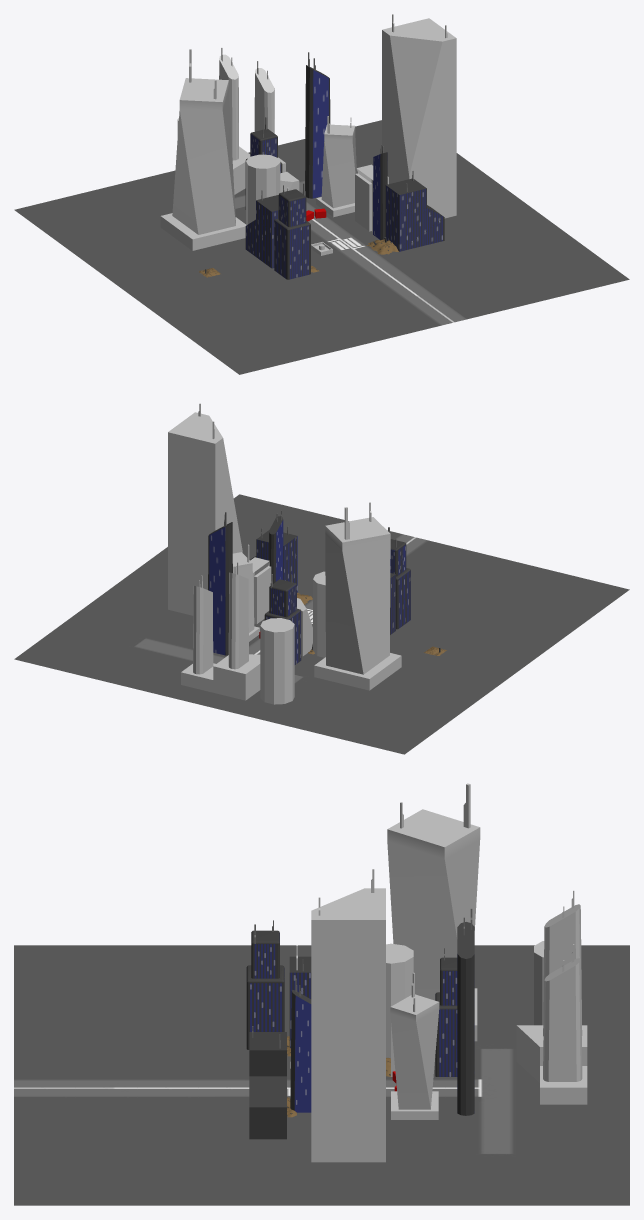
The model's file is sci fi city .fbx.
The picture shows the model from 3 angles, top to bottom: view 1: azimuth 30°, elevation 25°; view 2: azimuth 150°, elevation 25°; view 3: azimuth 270°, elevation 25°; orthographic projection. The views are drawn at different scales.
Parts seen in each view (by area): view 1: pPlane6, pCube35, pCube32, pCube46, pCube29, pCube16, pCube47, pCube31, pCylinder1, pCube24, pCube37, pCube2 (+3 smaller); view 2: pPlane6, pCube32, pCube35, pCylinder6, pCube47, pCube38, pCube36, pCube37, pCube45, pCube16, pCube46, pCylinder1 (+4 smaller); view 3: pPlane6, pCube35, pCube32, pCube29, pCube37, pCube46, pCube16, pCube47, pCube38, pCube24, pCube45, pCube36 (+3 smaller).
Part boxes in pixels (x1,y1,x2,y2): pPlane6: (14,120,629,374); pCube35: (382,14,456,218); pCube32: (160,49,246,250); pCube46: (385,171,444,251); pCube29: (316,116,356,217); pCube16: (274,183,310,279); pCube47: (305,52,330,198); pCube31: (245,190,278,268); pCylinder1: (246,154,280,224); pCube24: (373,144,387,240); pCube37: (254,61,274,133); pCube2: (355,164,388,231); pPlane6: (14,494,629,754); pCube32: (314,502,401,690); pCube35: (168,403,242,615); pCylinder6: (260,618,294,704); pCube47: (208,512,232,655); pCube38: (181,654,260,700); pCube36: (228,562,248,669); pCube37: (193,575,213,674); pCube45: (264,574,301,664); pCube16: (388,527,410,629); pCube46: (250,526,297,592); pCylinder1: (313,571,325,657); pPlane6: (14,945,629,1205); pCube35: (311,869,385,1162); pCube32: (387,783,480,1041); pCube29: (390,972,439,1119); pCube37: (543,944,582,1081); pCube46: (249,1026,286,1139); pCube16: (246,920,284,1049); pCube47: (457,908,474,1115); pCube38: (516,1025,587,1104); pCube24: (290,978,311,1112); pCube45: (435,948,457,1076); pCube36: (543,890,582,1036).
Bounding box in the file's own units: 130 × 62.79 × 130.
